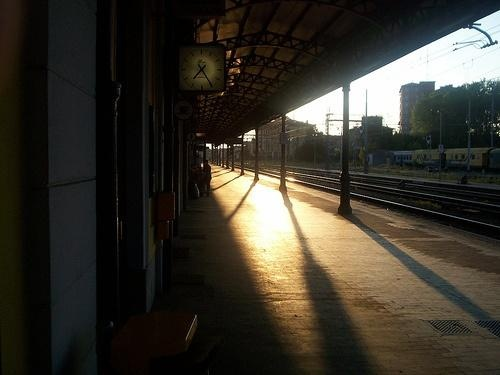train: (377, 148, 500, 172)
